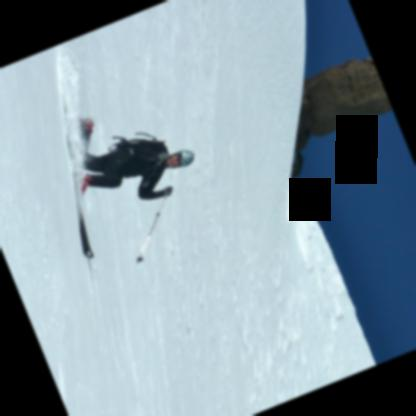backpack: (107, 137, 139, 152), (136, 139, 167, 154)
